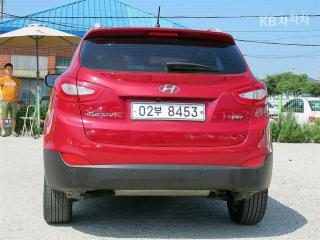0: (138, 104, 146, 117)
2: (146, 105, 154, 117)
3: (191, 106, 199, 118)
4: (175, 106, 183, 117)
5: (183, 106, 191, 118)
8: (167, 105, 176, 117)
부: (154, 105, 163, 117)
